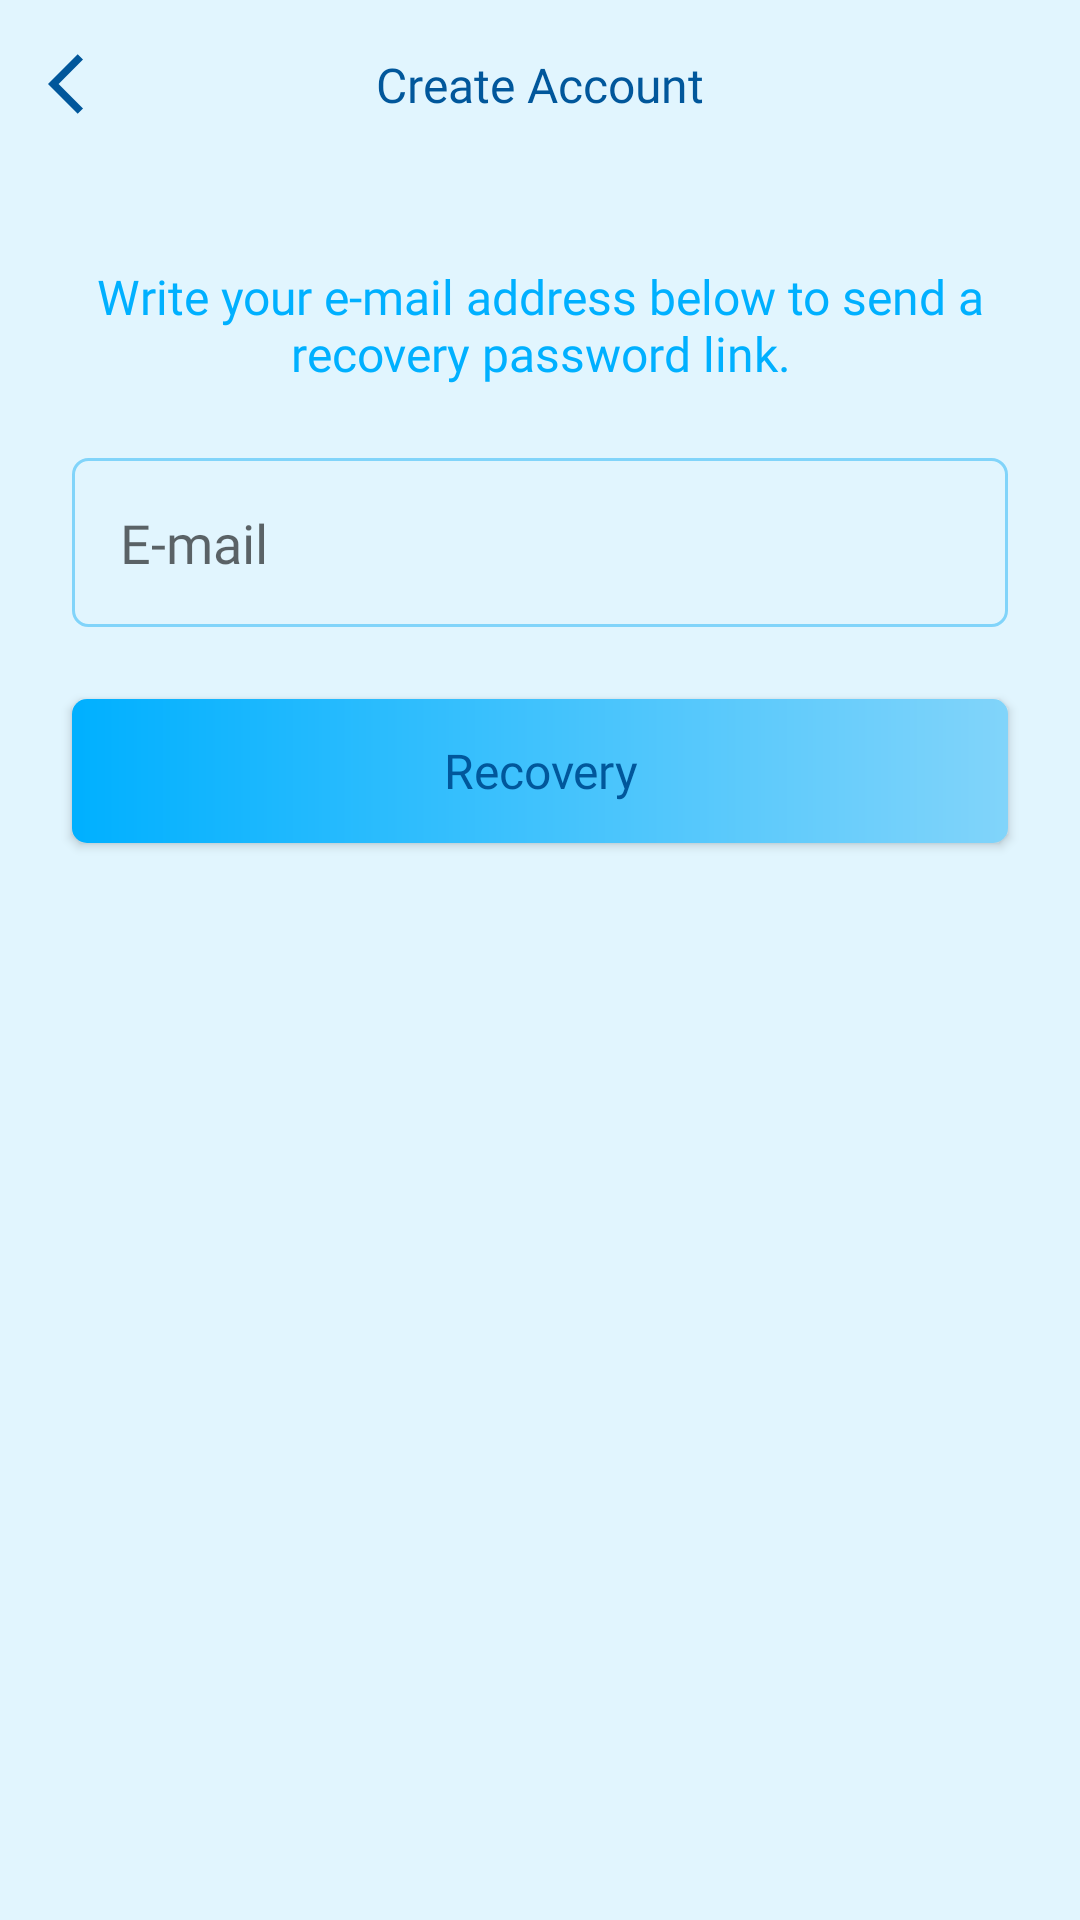

Icon click points for this 1080w x 1920h phone screenshot, format (x,y):
arrow back: (65,84)
